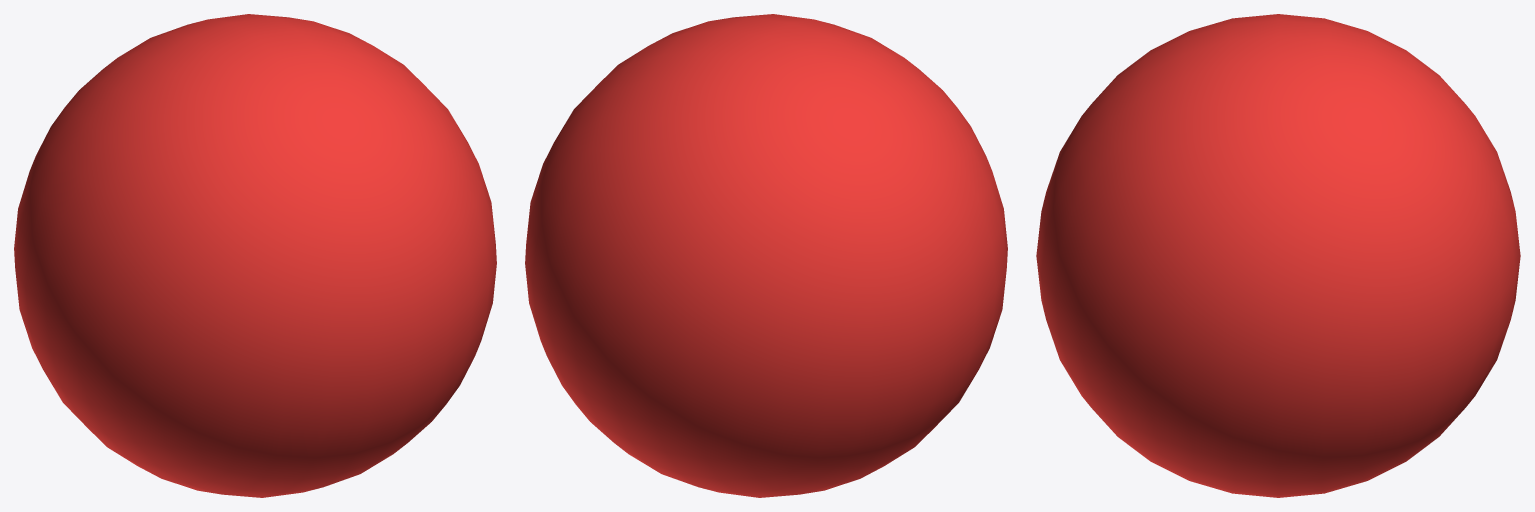
File: red_circle.glb
3 views of the same model, side by side, from view 1: azimuth 30°, elevation 25°; view 2: azimuth 150°, elevation 25°; view 3: azimuth 270°, elevation 25° (orthographic).
Parts seen in each view (by area): view 1: Cube.6662; view 2: Cube.6662; view 3: Cube.6662.
Part boxes in pixels (x1,y1,x2,y2): Cube.6662: [14, 14, 496, 497]; Cube.6662: [525, 14, 1007, 497]; Cube.6662: [1036, 14, 1520, 497].
Bounding box in the file's own units: 2.23 × 2.23 × 2.23.
Materials: 1 (1 with a texture image).
